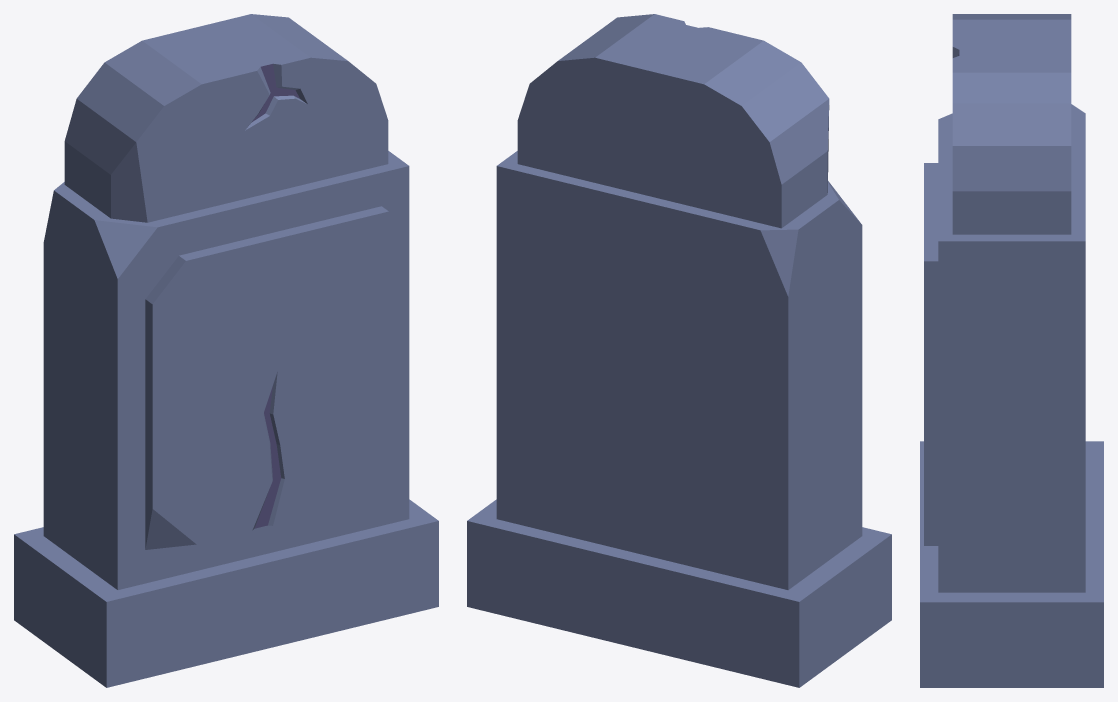
The model's file is Toombstone_05.fbx.
3 renders of one model, left to right at view 1: azimuth 30°, elevation 25°; view 2: azimuth 150°, elevation 25°; view 3: azimuth 270°, elevation 25°, orthographic.
Visible parts, largest first — view 1: Toombstone 5; view 2: Toombstone 5; view 3: Toombstone 5.
Part boxes in pixels (box(x1,y1,x2,y2)): Toombstone 5: box(14, 14, 438, 687); Toombstone 5: box(467, 14, 891, 687); Toombstone 5: box(920, 14, 1103, 687).
Size of the model in its own units: 99.3 by 161 by 47.85.
